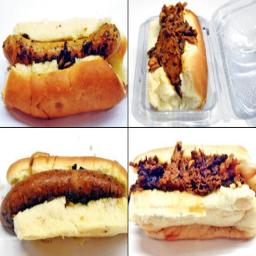hotdog: (130, 146, 256, 244), (3, 154, 126, 240), (5, 26, 127, 112), (150, 8, 207, 128)
